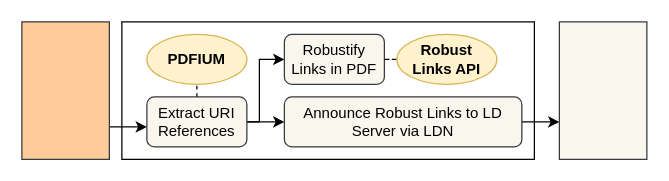
The diagram is 669 pixels wide and 181 high, and some of its shapes have lost their labels. The centre of each missing label's shape, as x and y in pixels:
Preview PDF with Robust Links: point (602, 90)
Upload PDF Document: point (65, 90)
